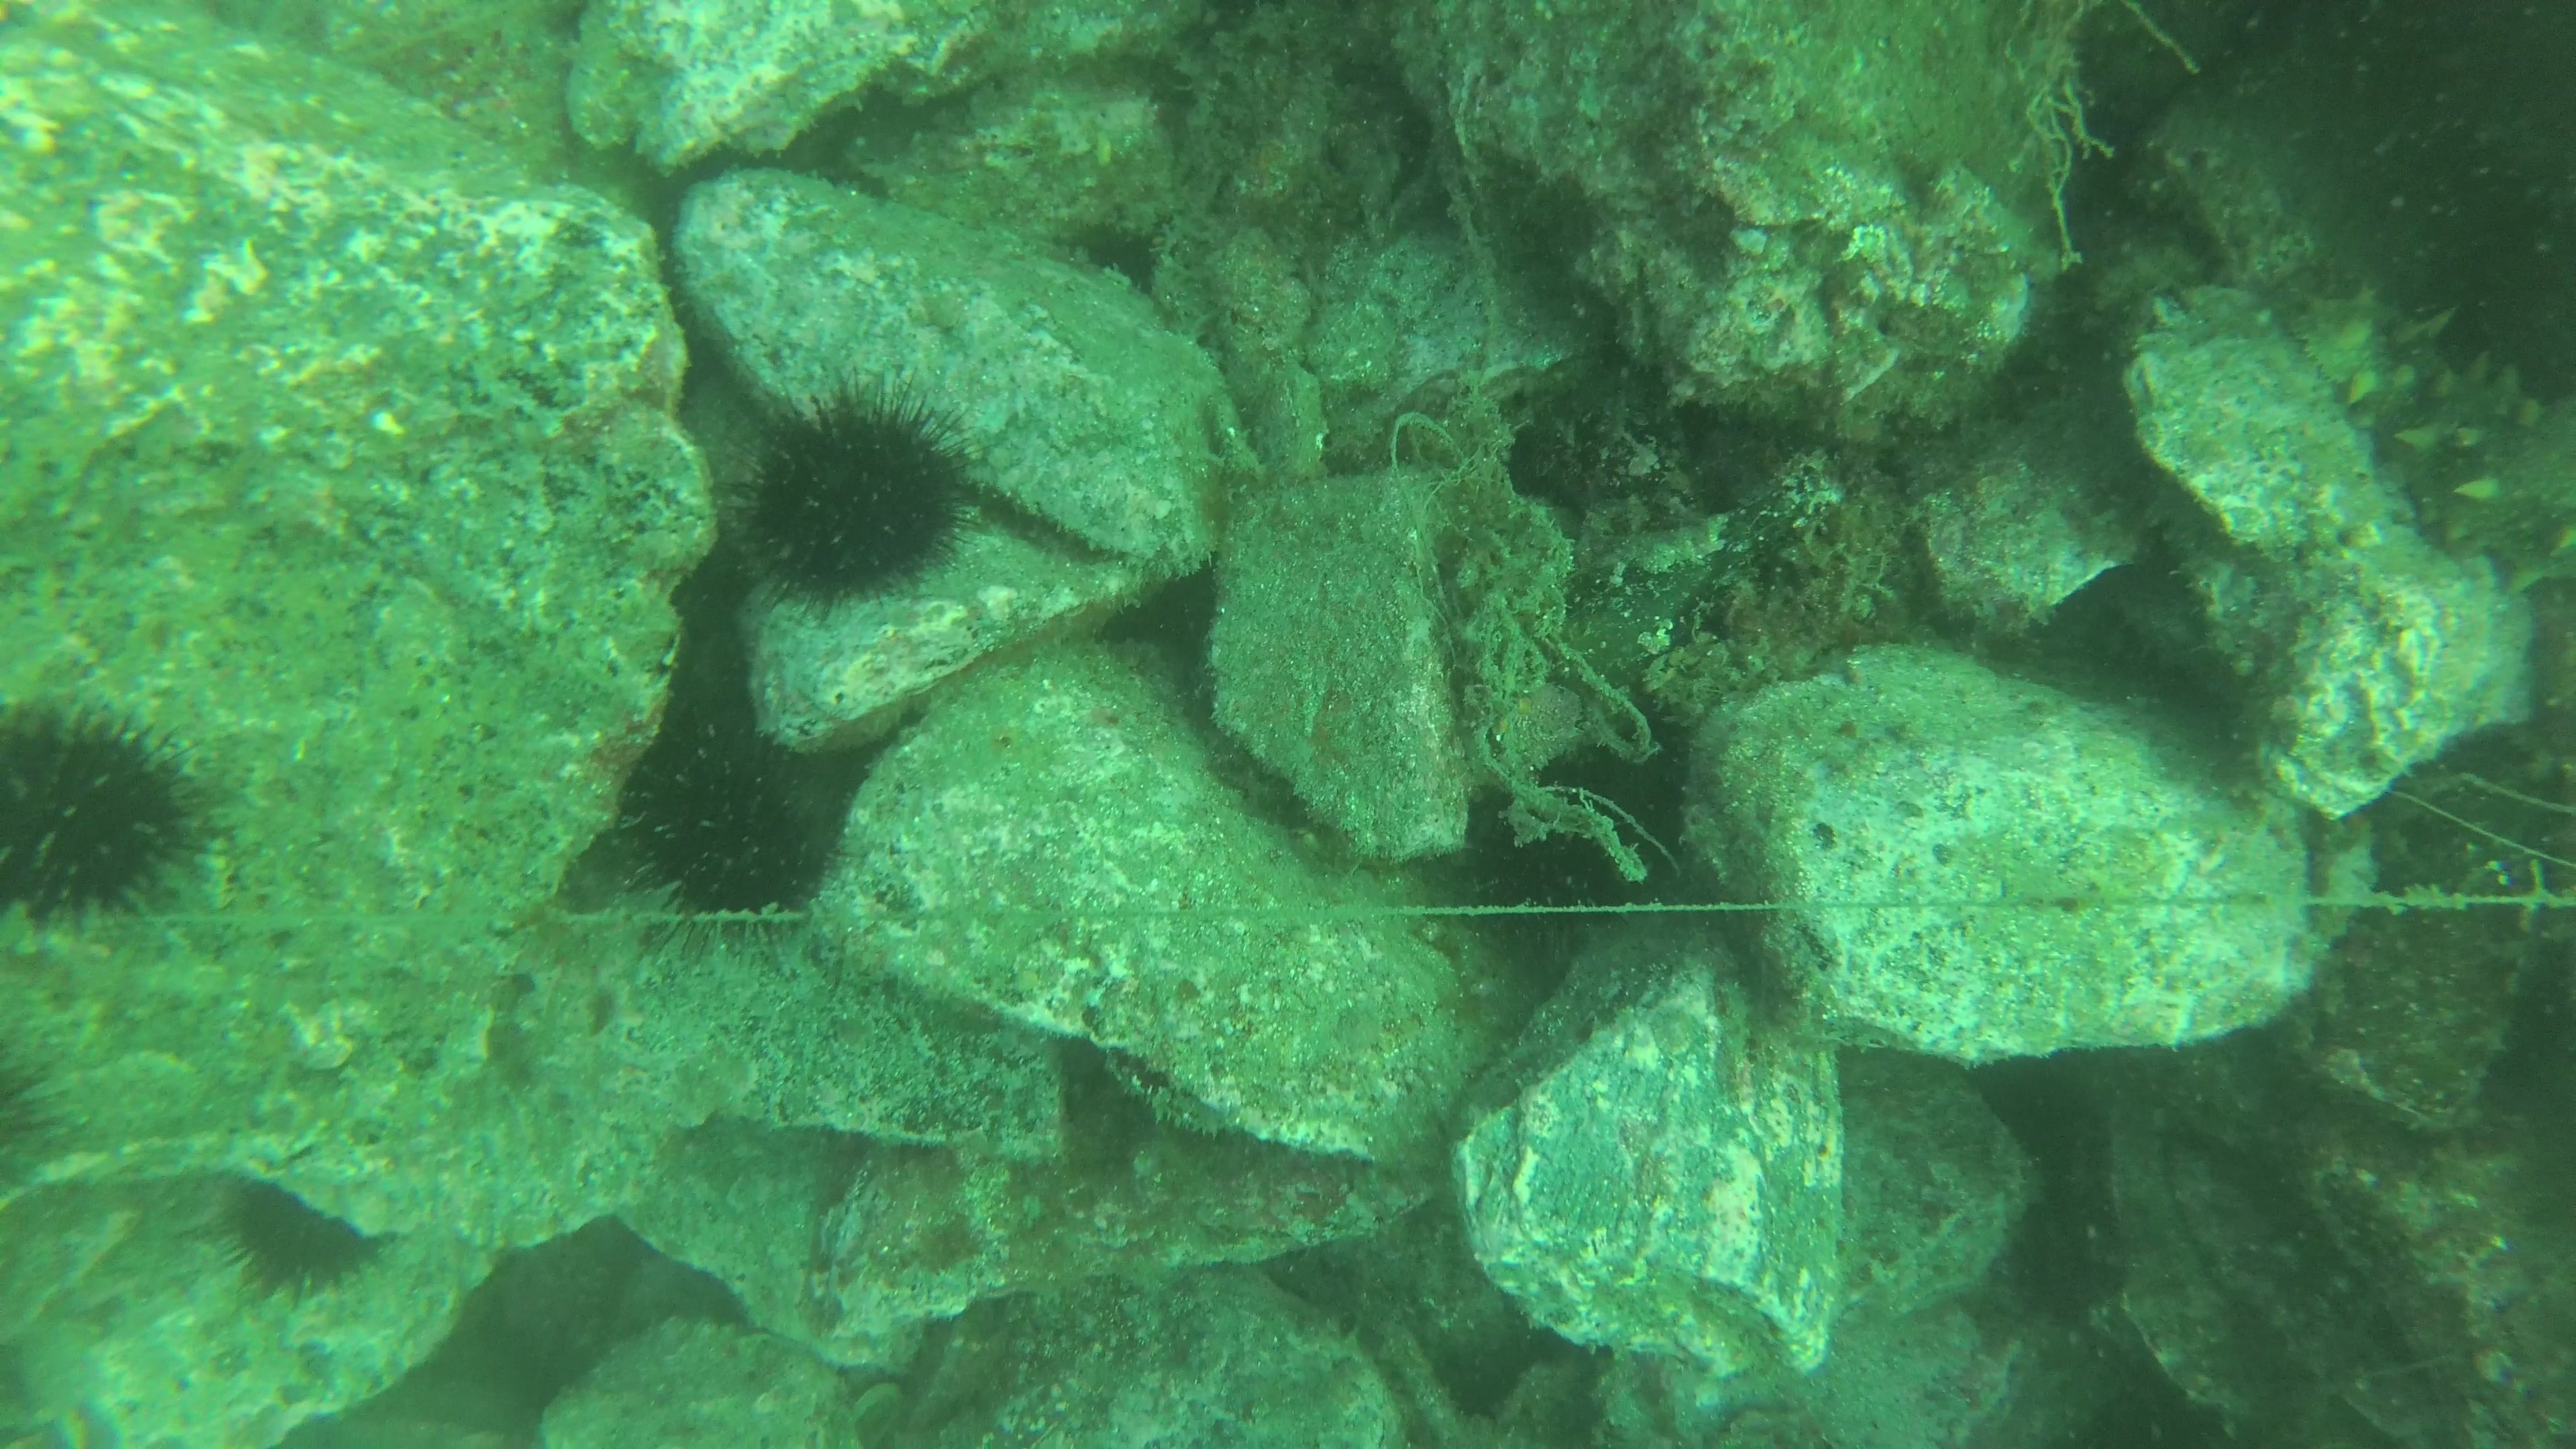echinus: (736, 377, 980, 609), (0, 688, 216, 929), (617, 727, 828, 925), (211, 1169, 384, 1300)
holothurian: (2282, 271, 2576, 596)
